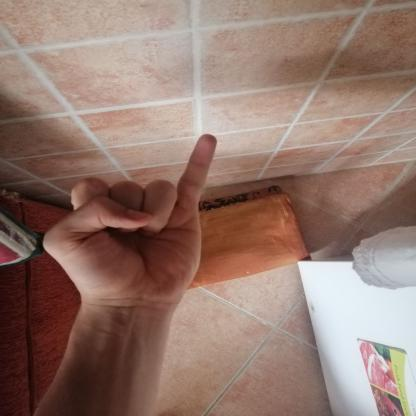MEEM: (26, 123, 230, 317)
